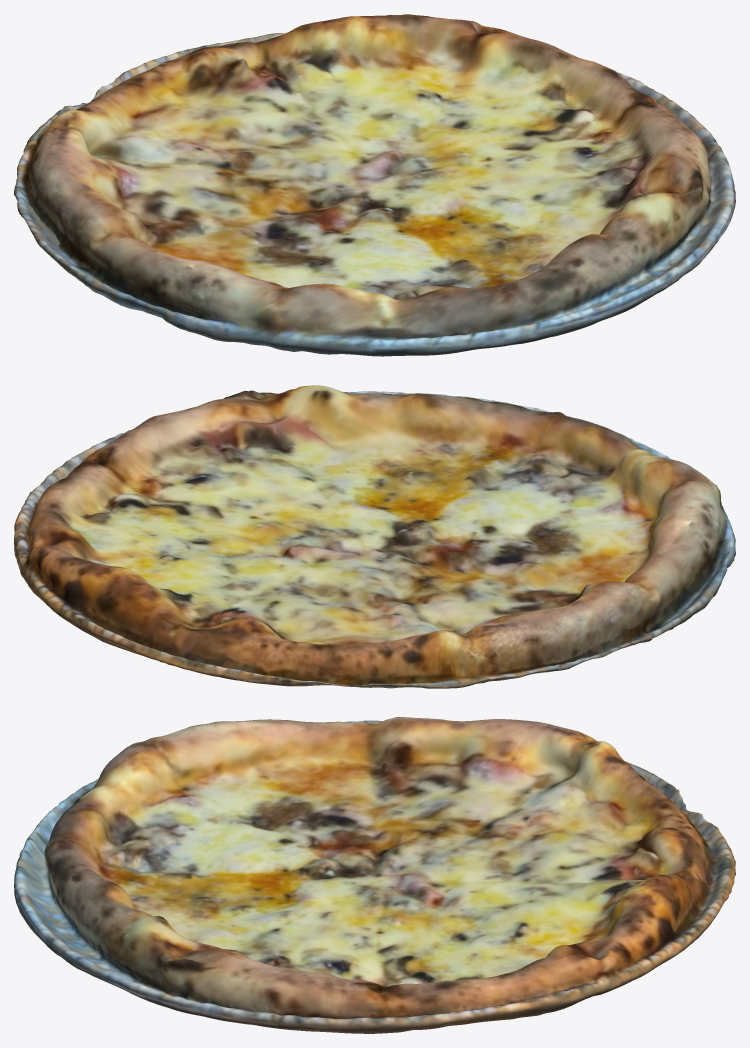
File: roma.glb
3 renders of one model, top to bottom at view 1: azimuth 30°, elevation 25°; view 2: azimuth 150°, elevation 25°; view 3: azimuth 270°, elevation 25°, orthographic.
Parts seen in each view (by area): view 1: ObjectCapture; view 2: ObjectCapture; view 3: ObjectCapture.
Part boxes in pixels (x1,y1,x2,y2): ObjectCapture: [14, 14, 735, 356]; ObjectCapture: [14, 385, 735, 688]; ObjectCapture: [14, 717, 735, 1033].
Size of the model in its own units: 0.7401 by 0.093 by 0.7458.
1 material, 1 textured.
